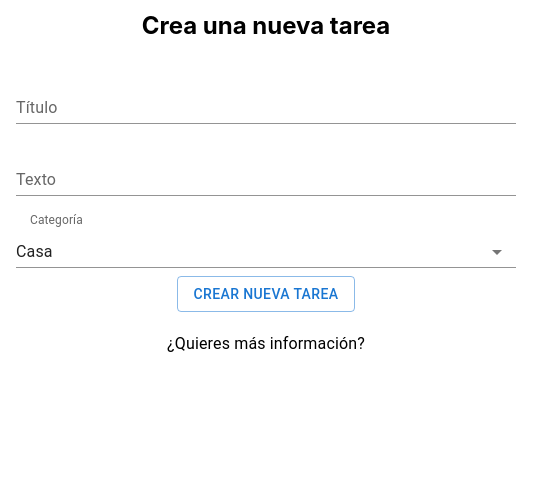
Prueba sobre la app completa › si la tarea se genera correctamente
The width and height of the screenshot is (533, 504).
Type "Perro" into the field labelled "Título" at (266, 108), box [16,92,516,124]
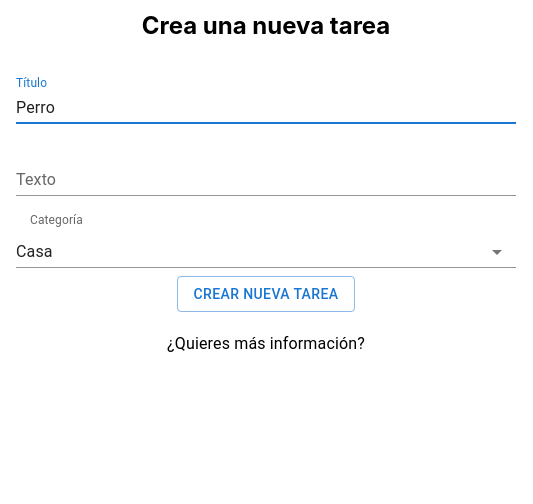
Type "Sacar al perro por la tarde" into the field labelled "Texto" at (266, 180), box [16,164,516,196]
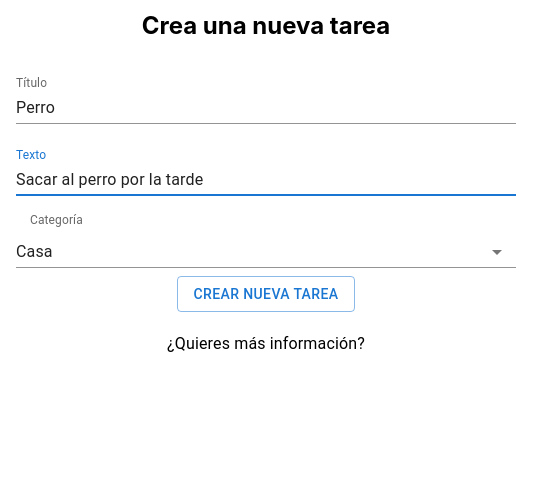
Select "Casa" in the dropdown labelled "Categoría" at (266, 252), box [16,236,516,268]
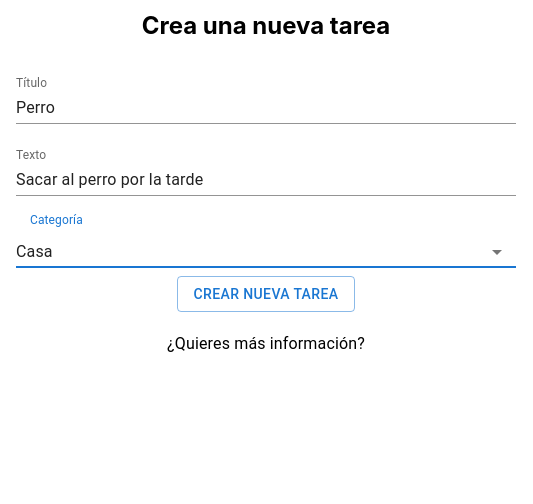
Click the button "Crear nueva tarea" at (266, 294), box [178,276,355,312]
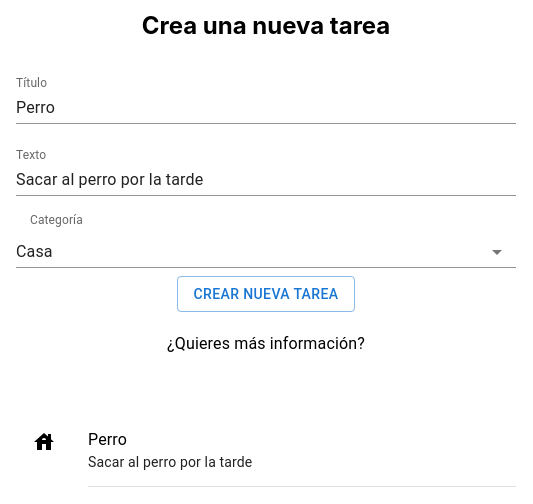
Check: the text "Perro" is shown, box [88,430,127,449]
